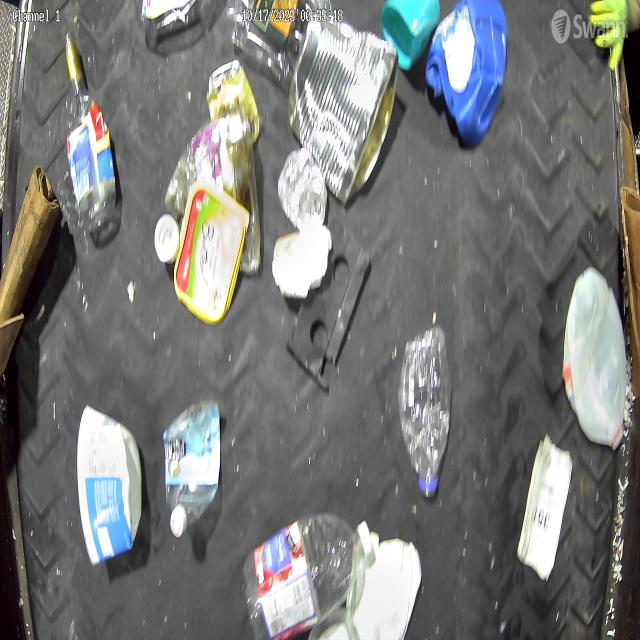can: (287, 23, 399, 205), (207, 60, 261, 140), (278, 147, 328, 230)
milk_jug: (562, 266, 629, 445)
non_white_jug: (425, 2, 507, 146), (381, 2, 440, 72)
plastic_bottle: (246, 512, 371, 640), (65, 32, 116, 232), (397, 327, 452, 498), (164, 398, 221, 538)
